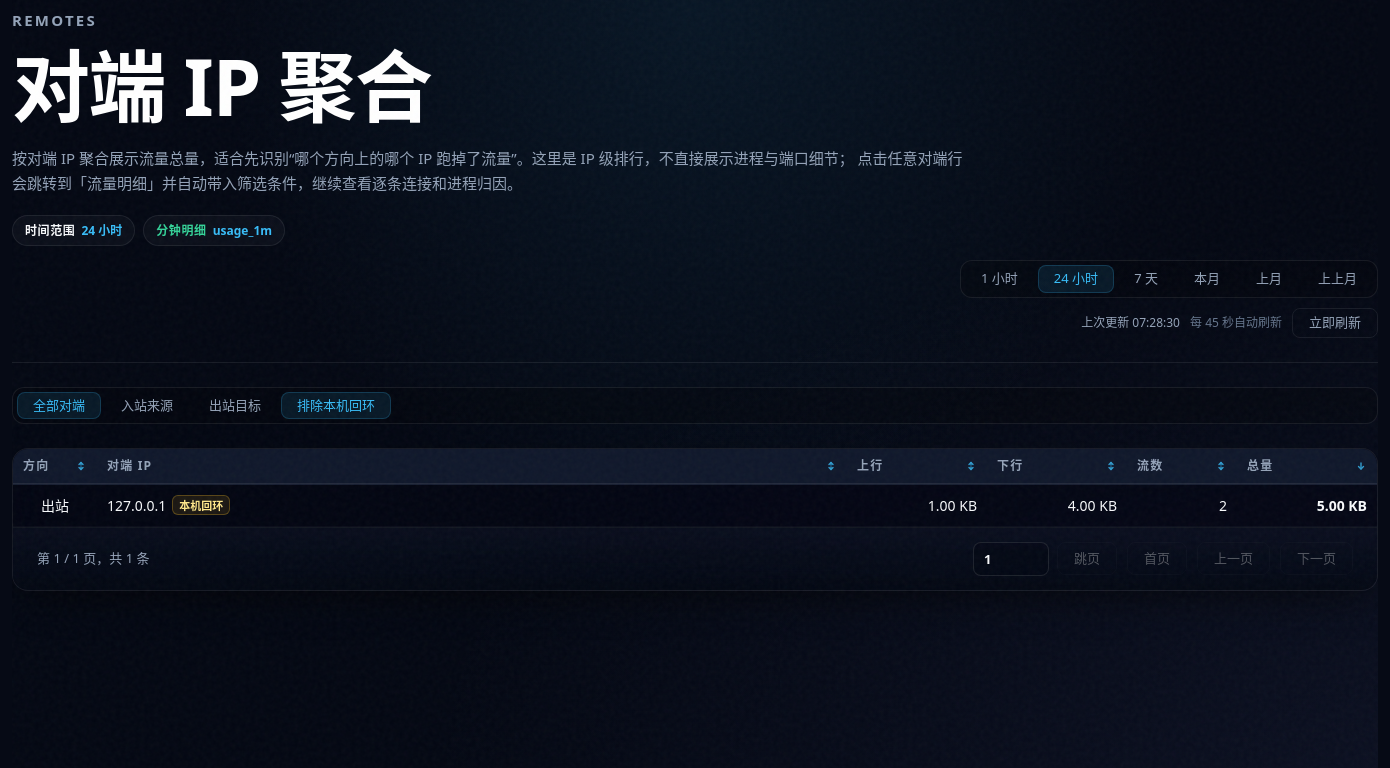
Scenario: traffic-go web ui › shows loopback remotes by default and can exclude them
Check: the text "127.0.0.1" is shown, box [107,495,166,516]
Click the button "排除本机回环": [336, 406] box [281,392,391,419]
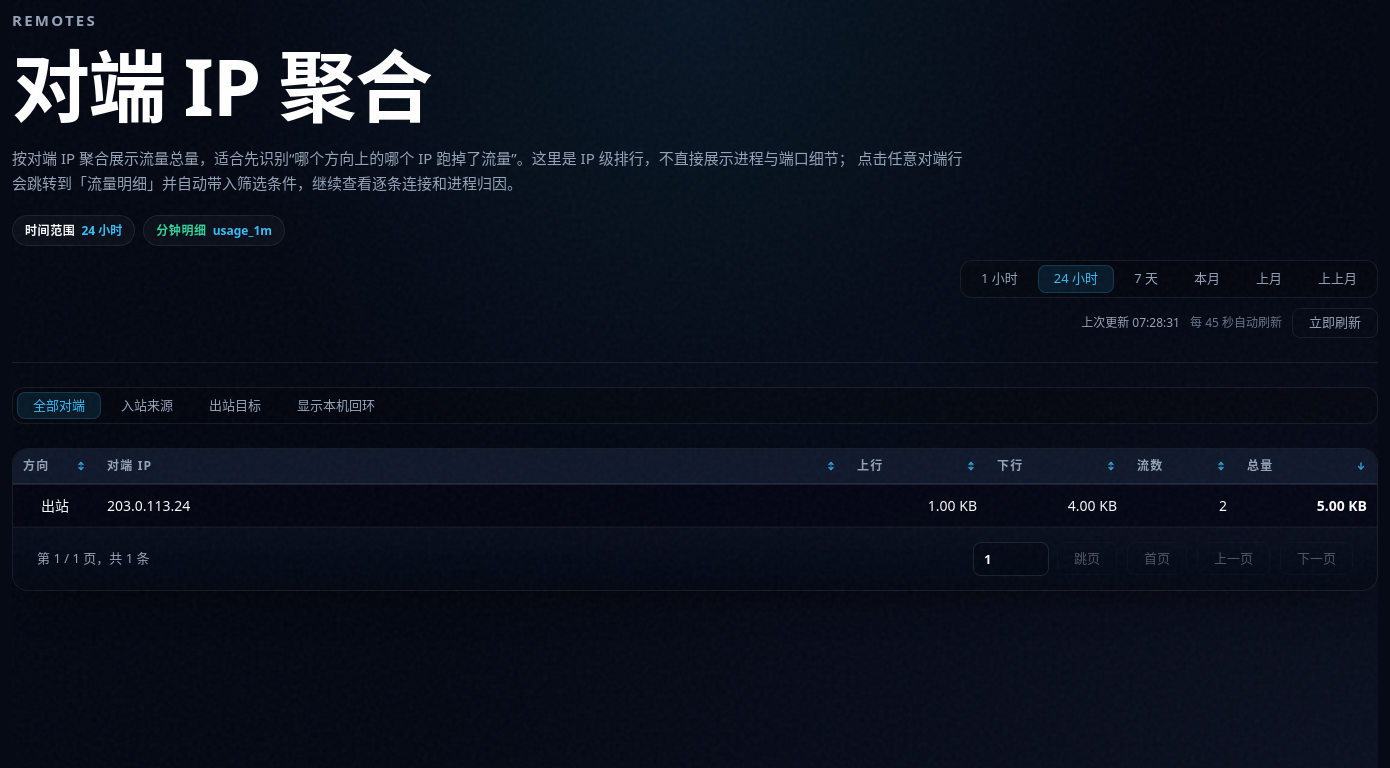
Check: the text "203.0.113.24" is shown, box [107,495,190,516]
